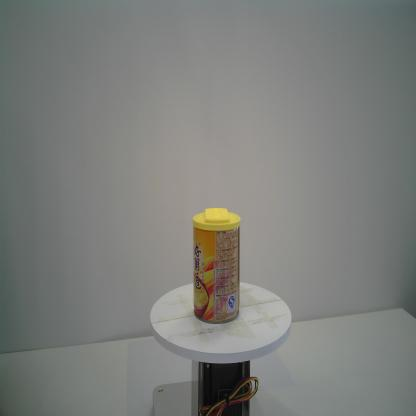Canned Food: (193, 206, 241, 324)
